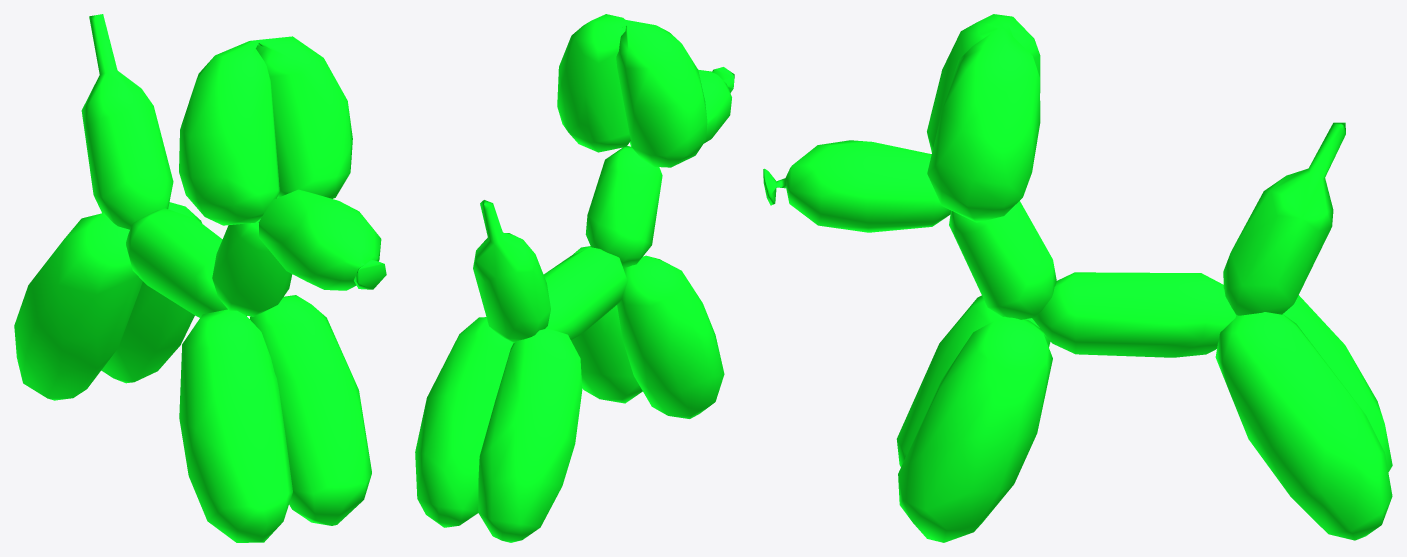
3 views of the same model, side by side, from view 1: azimuth 30°, elevation 25°; view 2: azimuth 150°, elevation 25°; view 3: azimuth 270°, elevation 25° (orthographic). The views are drawn at different scales.
Visible parts, largest first — view 1: BalloonAnimalShortGreen; view 2: BalloonAnimalShortGreen; view 3: BalloonAnimalShortGreen.
Part boxes in pixels (bbox=[...]): BalloonAnimalShortGreen: bbox=[14, 14, 386, 542]; BalloonAnimalShortGreen: bbox=[415, 14, 734, 542]; BalloonAnimalShortGreen: bbox=[763, 14, 1392, 542].
Size of what is drawn, in the model's own units: 0.2112 by 0.561 by 0.6487.
Materials: 1 (1 with a texture image).
